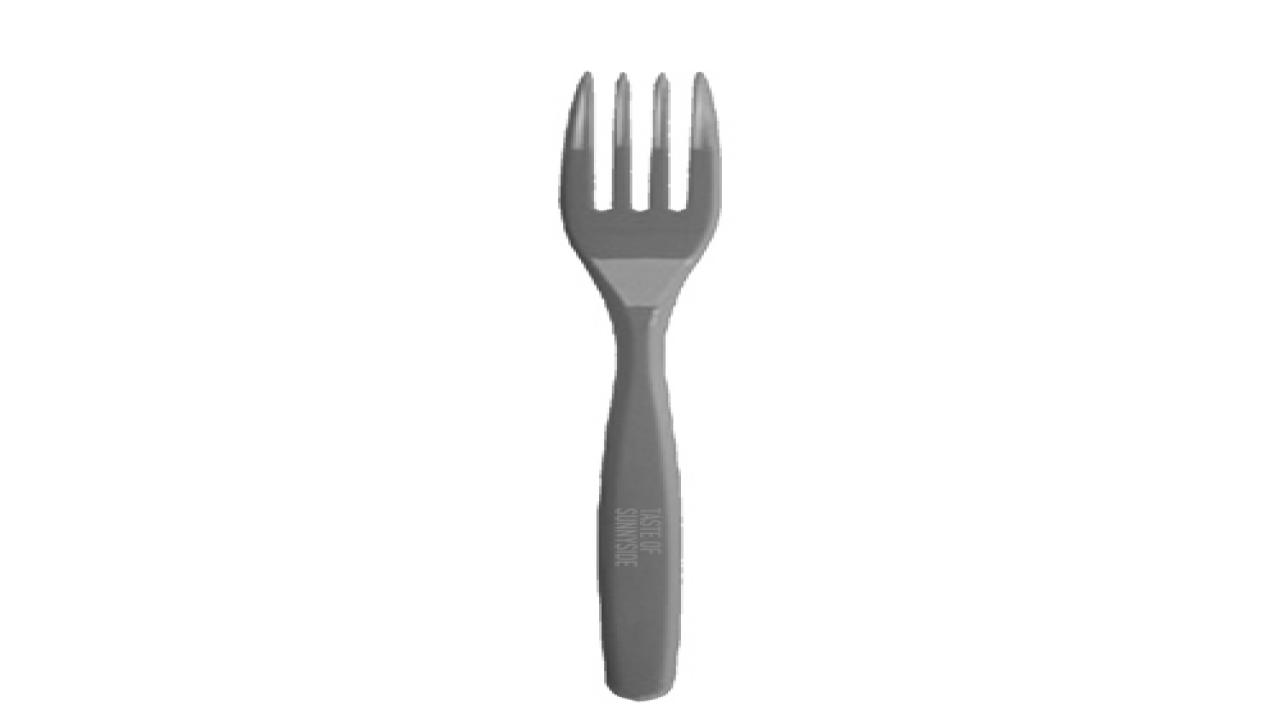fork: (555, 69, 722, 700)
